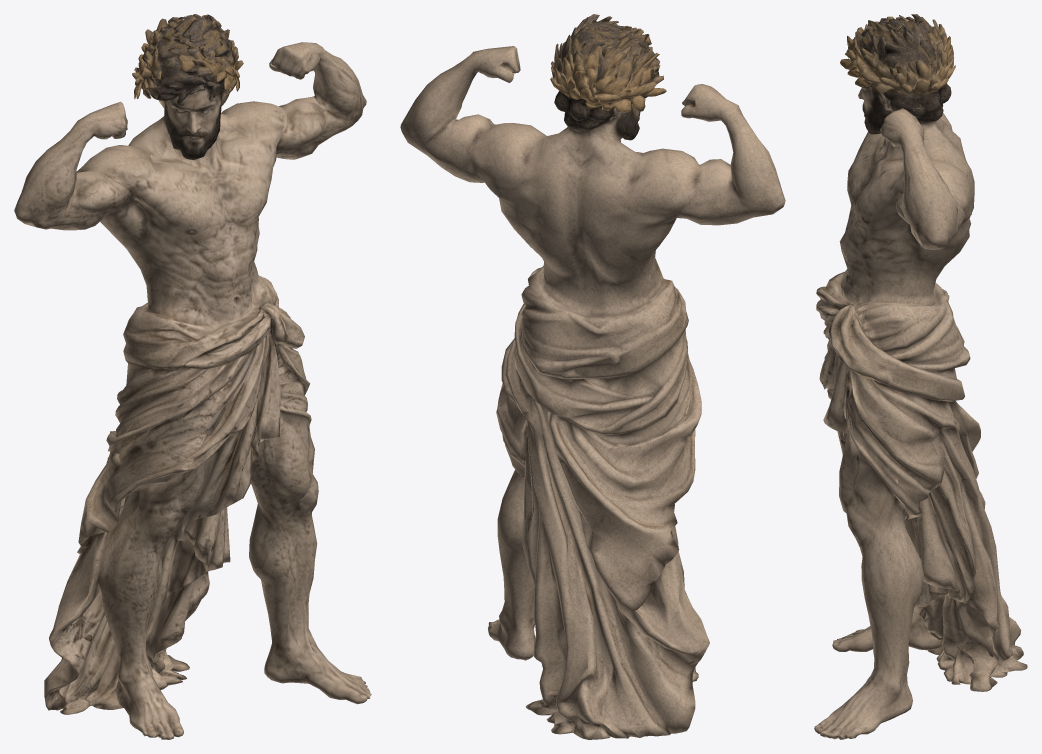
Rendered from Meshy_AI_Hercules_Triumphant_1012183917_texture.glb.
3 views of the same model, side by side, from view 1: azimuth 30°, elevation 25°; view 2: azimuth 150°, elevation 25°; view 3: azimuth 270°, elevation 25° (orthographic). The views are drawn at different scales.
Bounding box in the file's own units: 0.5405 × 0.9502 × 0.2788.
Materials: 1 (1 with a texture image).
